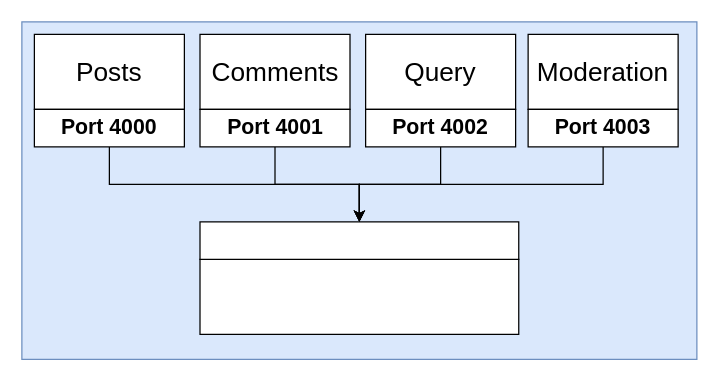
Some shapes in this 719 by 381 pixel diagram are drawn without their labels. The box of each missing label's shape, as (x1, y1, x2, y2) in pixels:
Event Bus: (199, 258, 519, 334)
Port 4005: (199, 221, 519, 259)
